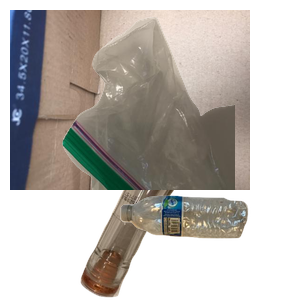cardboard: (10, 10, 250, 190)
glass: (78, 128, 298, 300)
plastic: (118, 193, 300, 300)
trash: (60, 14, 300, 194)
